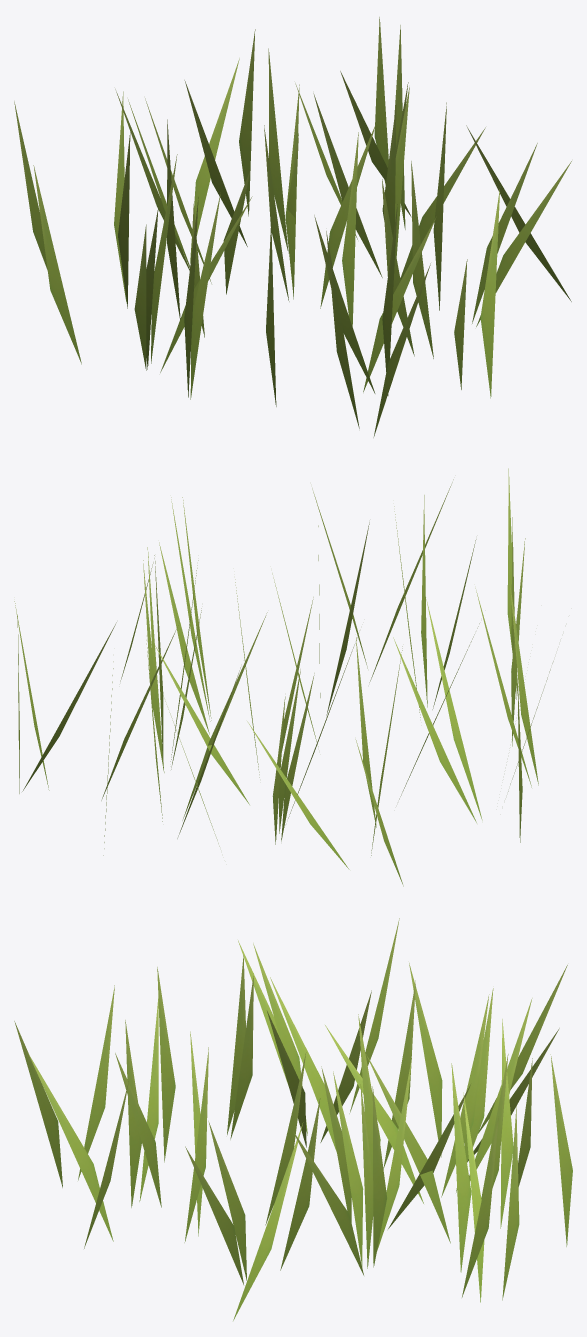
File: grassLand_New_3_LOD.fbx
3 renders of one model, top to bottom at view 1: azimuth 30°, elevation 25°; view 2: azimuth 150°, elevation 25°; view 3: azimuth 270°, elevation 25°, orthographic. The views are drawn at different scales.
Visible parts, largest first — view 1: Plane.687; view 2: Plane.687; view 3: Plane.687.
Part boxes in pixels (x1=…): Plane.687: x1=14, y1=17, x2=571, y2=437; Plane.687: x1=14, y1=468, x2=553, y2=886; Plane.687: x1=14, y1=918, x2=572, y2=1320.
Bounding box in the file's own units: 2407 × 1030 × 2592.
Materials: 1 (1 with a texture image).
